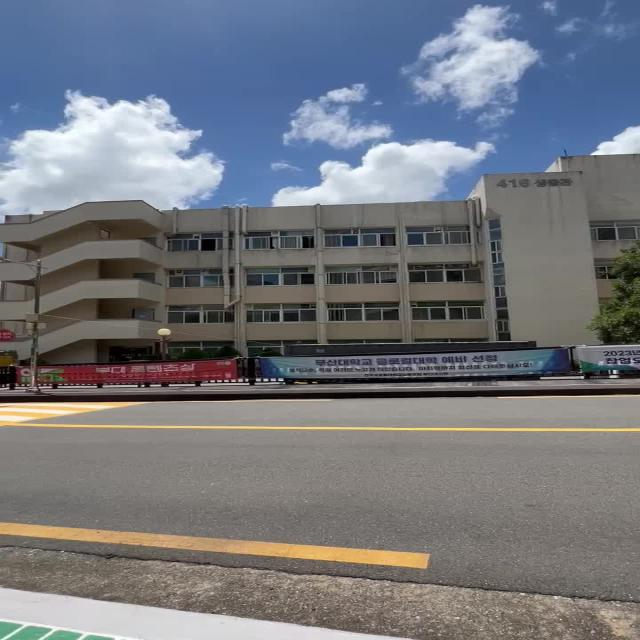building: (16, 162, 613, 348)
